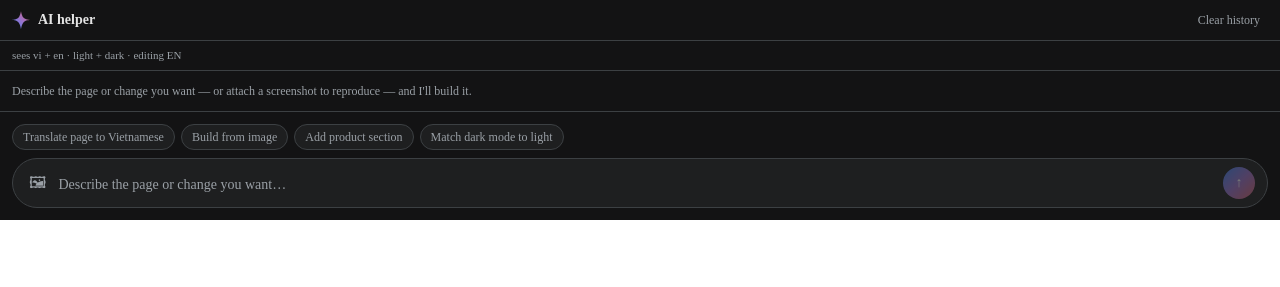
AssistantPanel › should finalize the streamed message with the authoritative summary text
Type "go" into the text box with placeholder "Describe the page or change you want…" at [637, 186], box [58,174,1215,198]
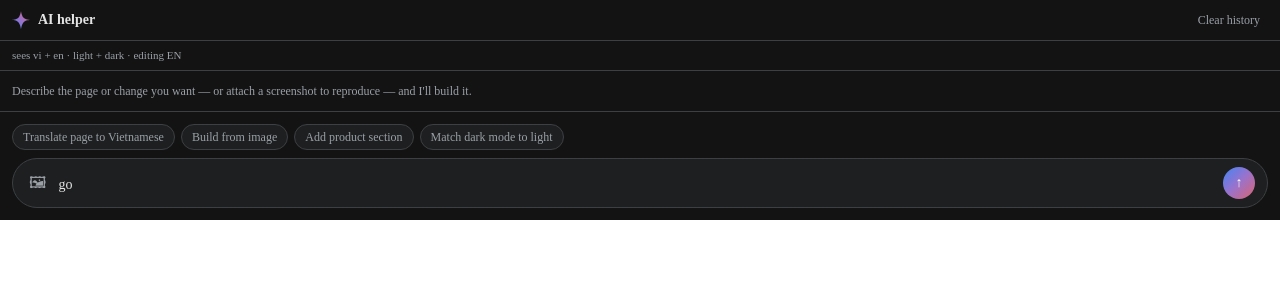
Click the button named "send message" at [1239, 182], box [1223,166,1255,198]
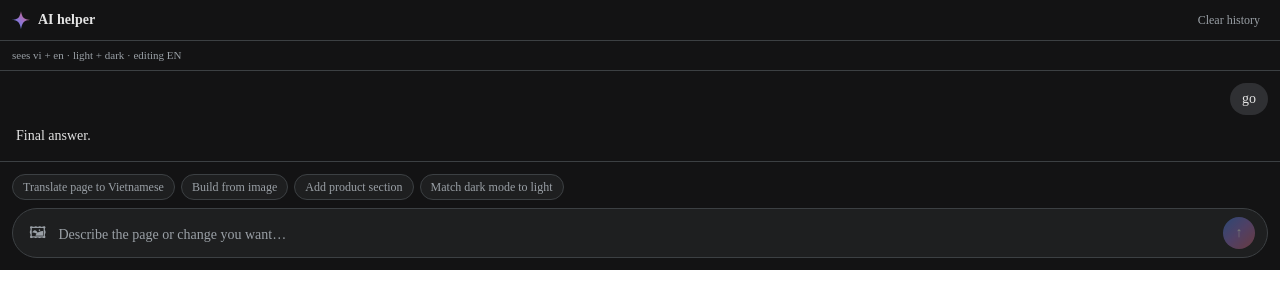
expect the text "Final answer." is shown: met, box [16,124,91,147]
